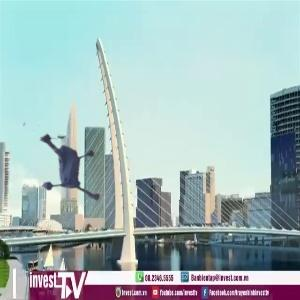drone: (13, 117, 106, 210)
